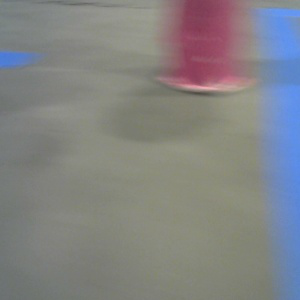right: (155, 1, 256, 95)
